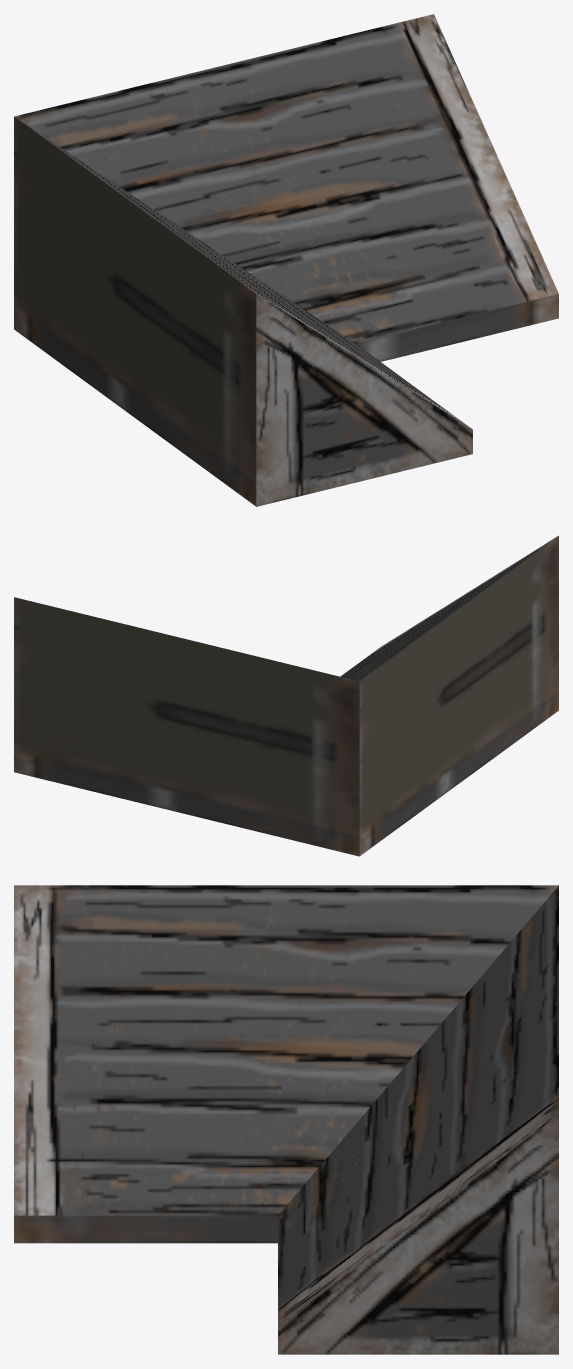
Rendered from Roof_Straight_Corner_Inside.fbx.
The picture shows the model from 3 angles, top to bottom: view 1: azimuth 30°, elevation 25°; view 2: azimuth 150°, elevation 25°; view 3: azimuth 270°, elevation 25°; orthographic projection. The views are drawn at different scales.
Parts seen in each view (by area): view 1: roof_inside_corner; view 2: roof_inside_corner; view 3: roof_inside_corner.
Part boxes in pixels (box(x1,y1,x2,y2)): roof_inside_corner: box(14, 14, 558, 506); roof_inside_corner: box(14, 535, 558, 856); roof_inside_corner: box(14, 885, 558, 1354).
Size of the model in its own units: 10 by 4.84 by 10.
